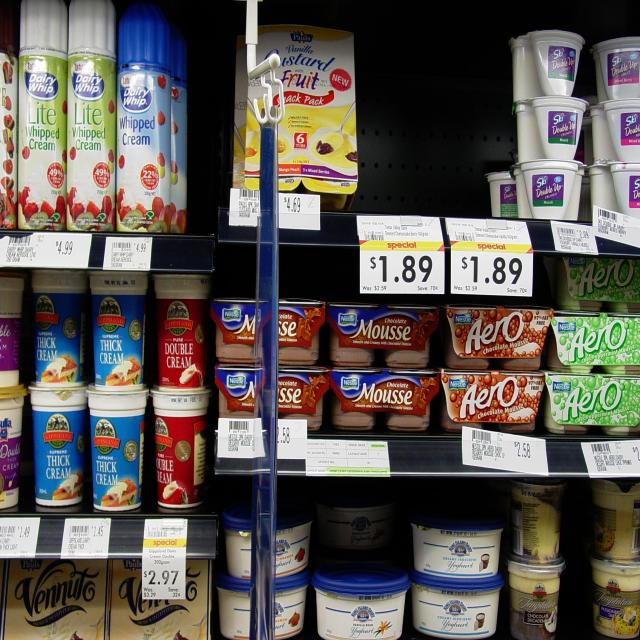empty_space: (361, 11, 487, 209), (189, 19, 223, 221)
